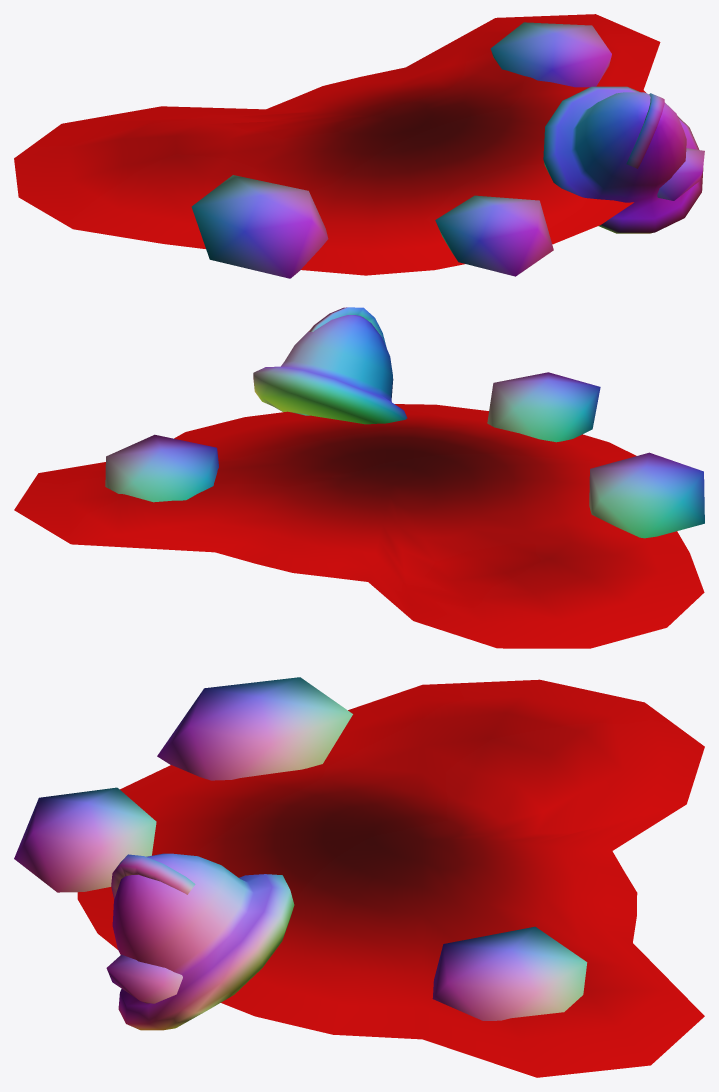
Rendered from SM_Pit_AshDrift_B.fbx.
3 views of the same model, one above another, from view 1: azimuth 30°, elevation 25°; view 2: azimuth 150°, elevation 25°; view 3: azimuth 270°, elevation 25° (orthographic). The views are drawn at different scales.
Visible parts, largest first — view 1: SM_Pit_AshDrift_B; view 2: SM_Pit_AshDrift_B; view 3: SM_Pit_AshDrift_B.
Boxes of the visible parts, x1,y1,x2,y2 form: SM_Pit_AshDrift_B: [14, 14, 704, 278]; SM_Pit_AshDrift_B: [14, 307, 704, 648]; SM_Pit_AshDrift_B: [14, 677, 704, 1077].
Bounding box in the file's own units: 1.44 × 0.278 × 1.05.
